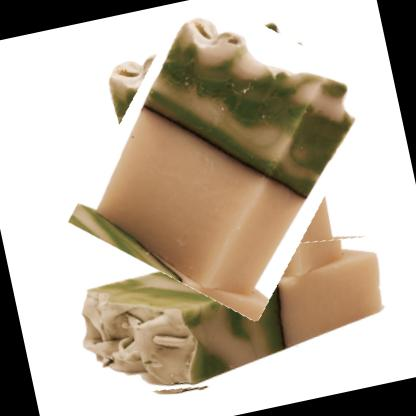soap: (58, 0, 390, 331), (60, 208, 407, 415)
